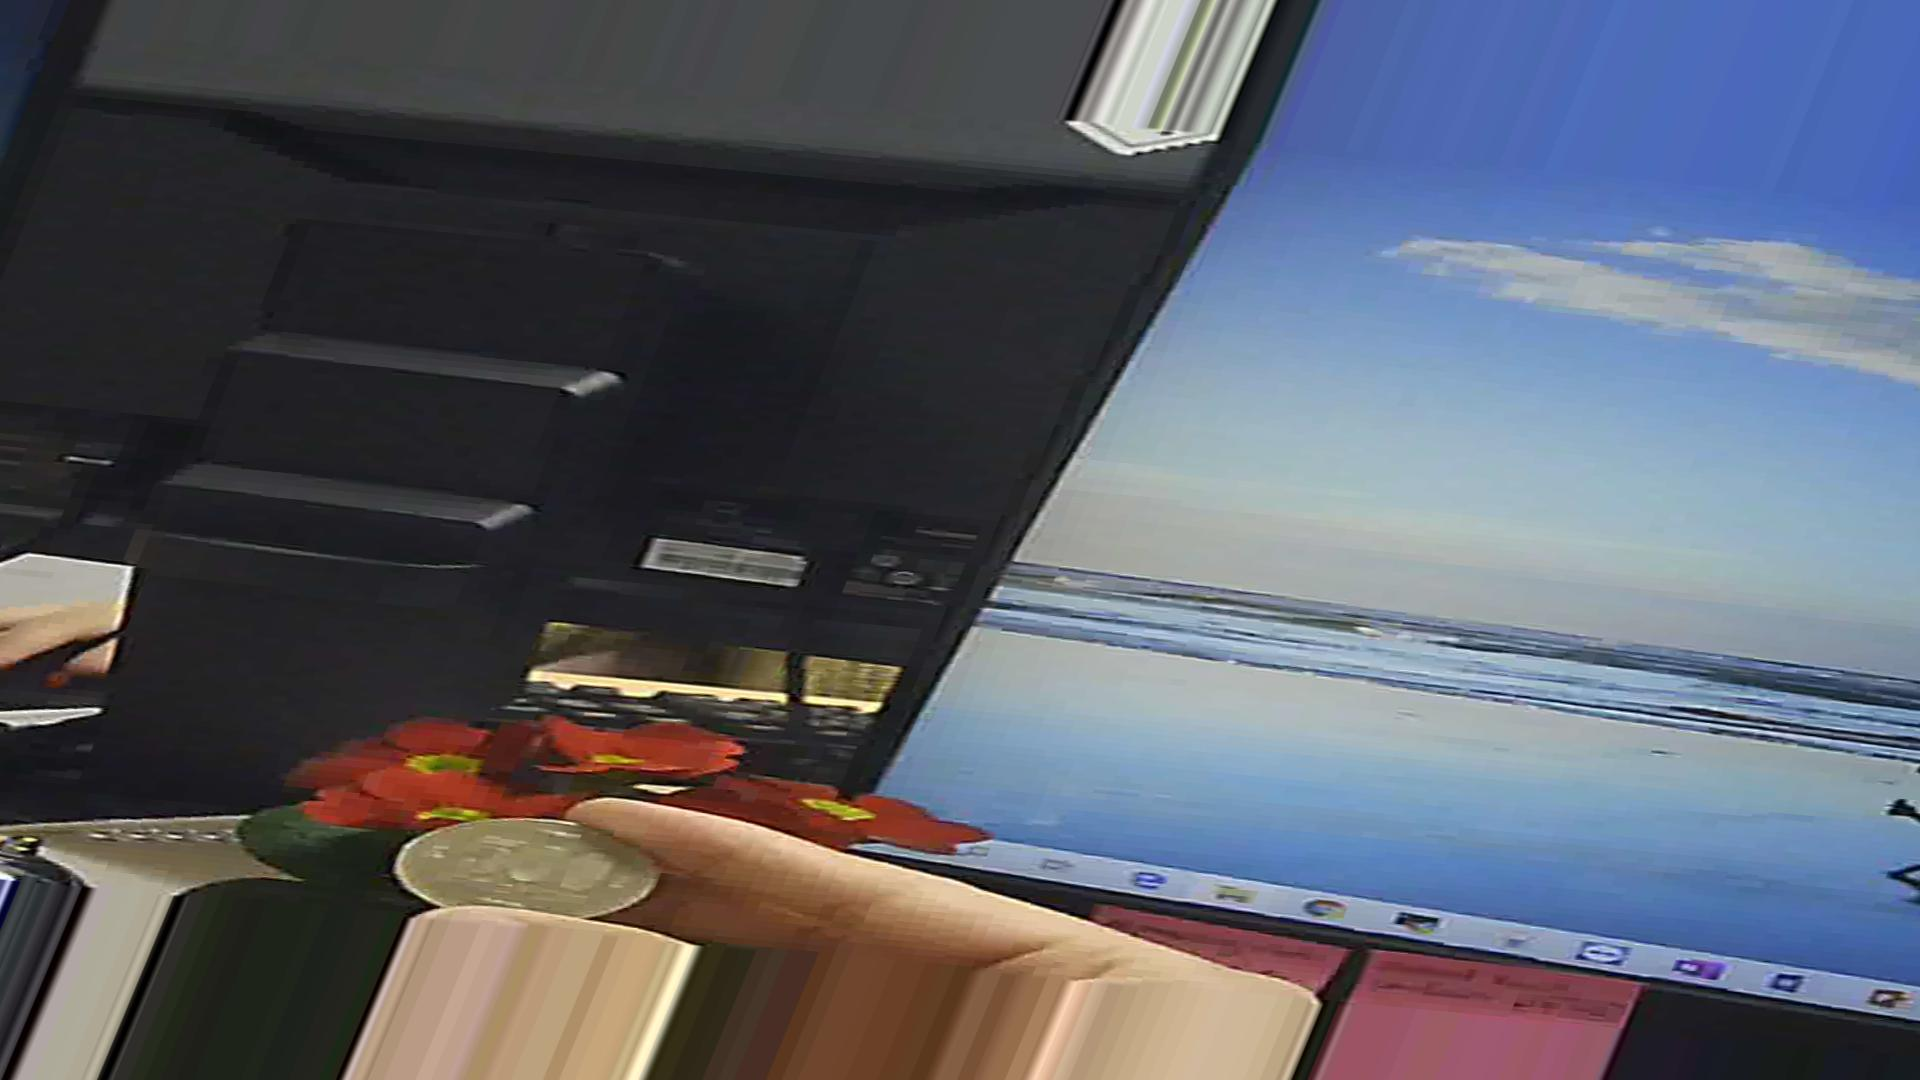500 Yen: (381, 800, 684, 935)
